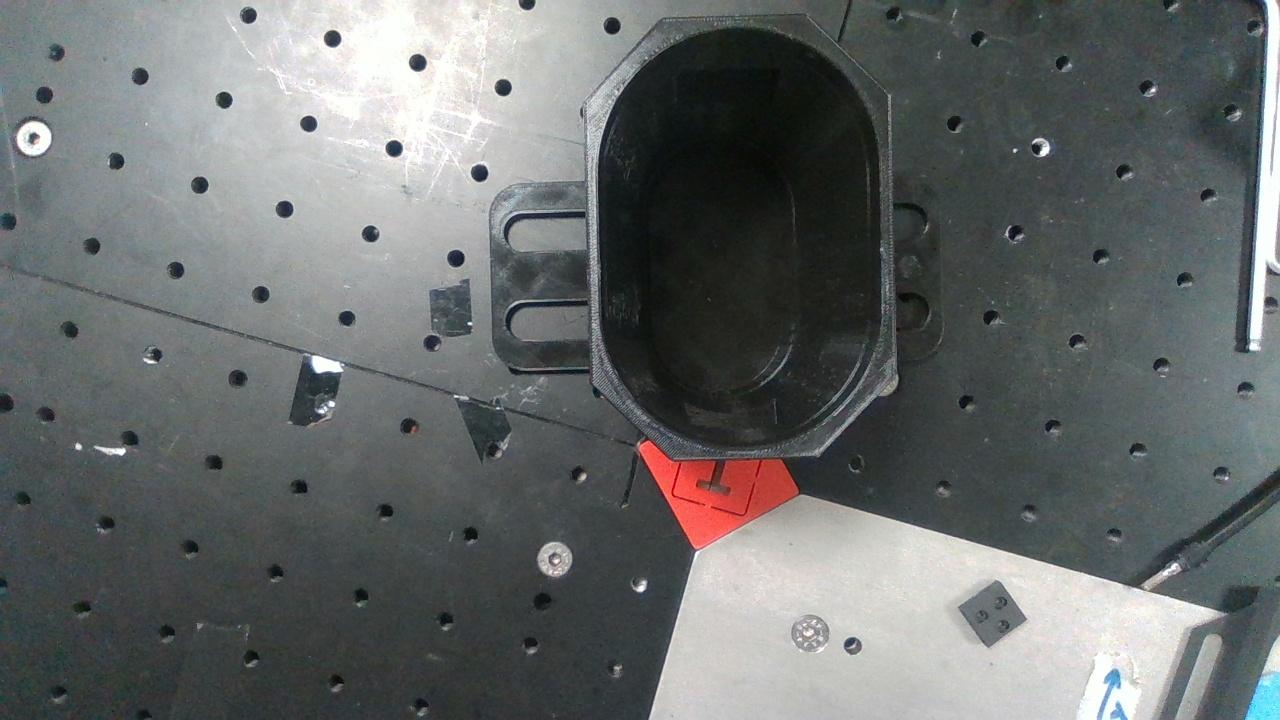small_interface: (584, 12, 900, 461)
